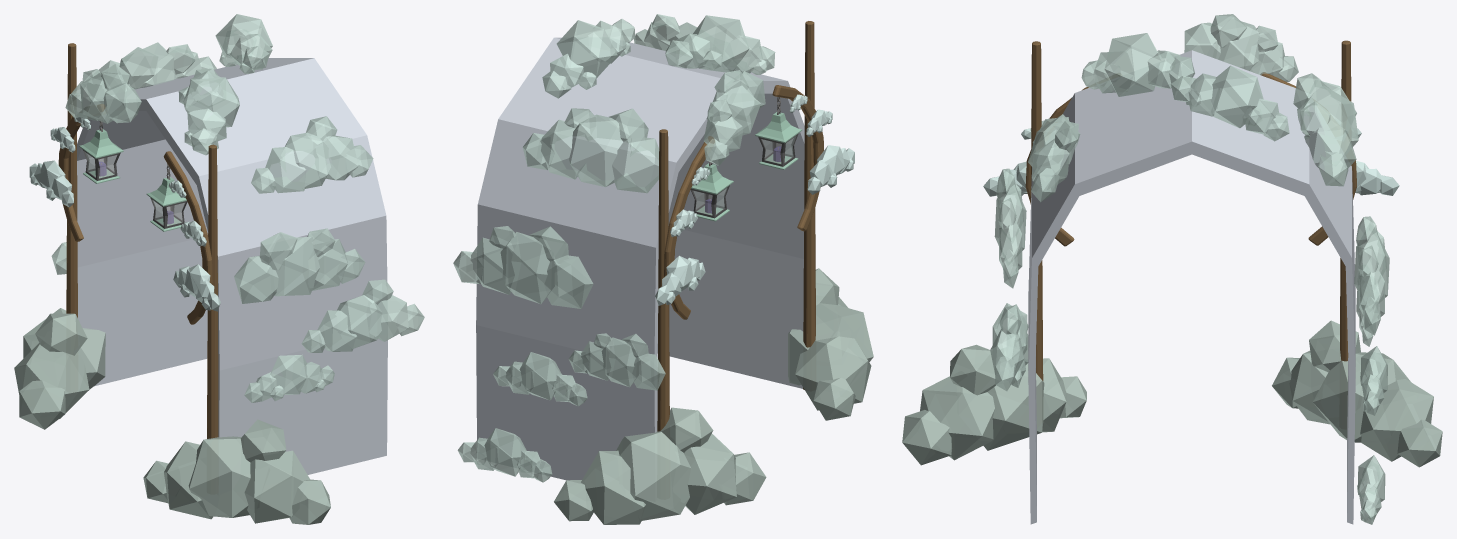
File: Wind_Gate.fbx
The picture shows the model from 3 angles, left to right: view 1: azimuth 30°, elevation 25°; view 2: azimuth 150°, elevation 25°; view 3: azimuth 270°, elevation 25°; orthographic projection. The views are drawn at different scales.
Parts seen in each view (by area): view 1: polySurface5; view 2: polySurface5; view 3: polySurface5.
Boxes of the visible parts, x1,y1,x2,y2 form: polySurface5: (14,14,424,524); polySurface5: (453,14,873,524); polySurface5: (902,14,1442,524).
Bounding box in the file's own units: 401 × 563 × 633.
